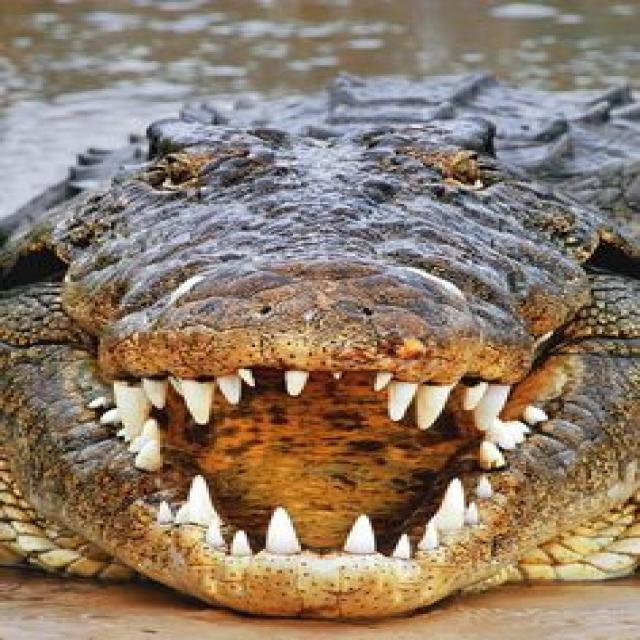Carnivorous: (0, 50, 640, 625)
